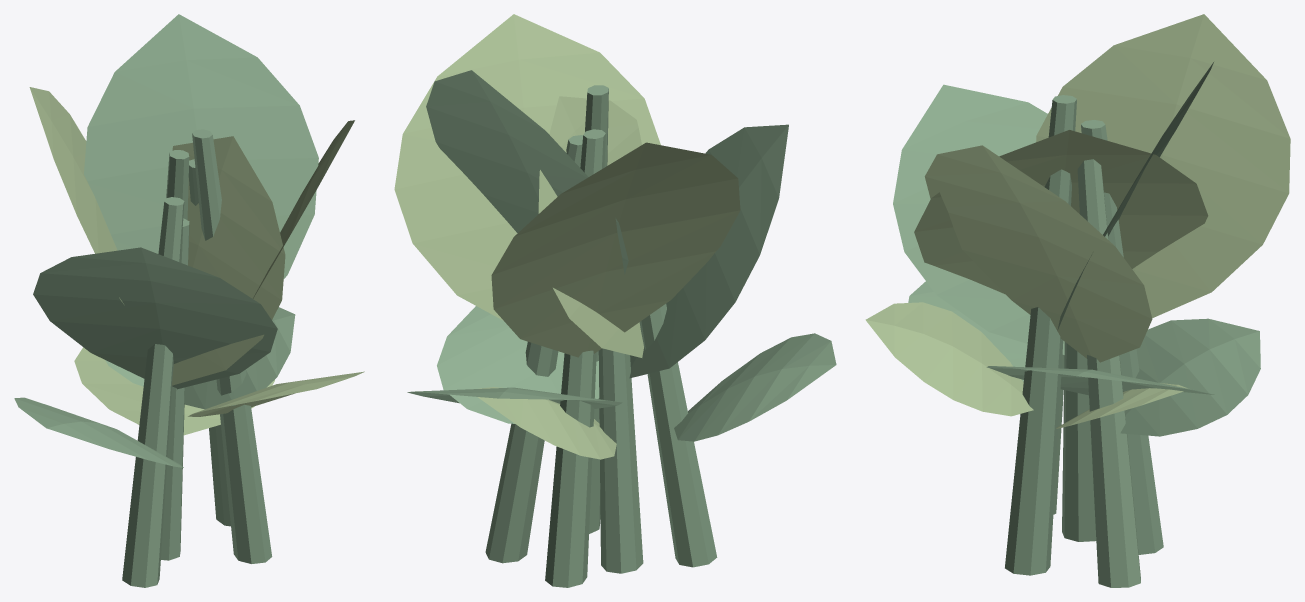
File: P12_art_repair_candidate.glb
3 renders of one model, left to right at view 1: azimuth 30°, elevation 25°; view 2: azimuth 150°, elevation 25°; view 3: azimuth 270°, elevation 25°, orthographic. The views are drawn at different scales.
Parts seen in each view (by area): view 1: P12_BroadLeaf_2, P12_BroadLeaf_4, P12_BroadLeaf_1, P12_Stem_1, P12_Stem_2, P12_BroadLeaf_3, P12_LowerLeaf_4, P12_Stem_4, P12_LowerLeaf_1, P12_LowerLeaf_3, P12_LowerLeaf_2, P12_Stem_5 (+2 smaller); view 2: P12_BroadLeaf_3, P12_BroadLeaf_5, P12_BroadLeaf_2, P12_BroadLeaf_4, P12_Stem_3, P12_LowerLeaf_1, P12_Stem_1, P12_Stem_4, P12_LowerLeaf_3, P12_Stem_5, P12_BroadLeaf_1, P12_LowerLeaf_4 (+2 smaller); view 3: P12_BroadLeaf_3, P12_BroadLeaf_5, P12_BroadLeaf_1, P12_BroadLeaf_4, P12_Stem_2, P12_LowerLeaf_5, P12_LowerLeaf_2, P12_Stem_5, P12_Stem_4, P12_Stem_3, P12_LowerLeaf_3, P12_LowerLeaf_1 (+2 smaller).
Part boxes in pixels (x1,y1,x2,y2): P12_BroadLeaf_2: [84, 14, 318, 278]; P12_BroadLeaf_4: [33, 247, 277, 389]; P12_BroadLeaf_1: [172, 136, 285, 385]; P12_Stem_1: [122, 197, 184, 587]; P12_Stem_2: [192, 129, 272, 563]; P12_BroadLeaf_3: [29, 87, 123, 303]; P12_LowerLeaf_4: [74, 347, 274, 435]; P12_Stem_4: [161, 218, 189, 560]; P12_LowerLeaf_1: [14, 397, 183, 467]; P12_LowerLeaf_3: [184, 307, 295, 409]; P12_LowerLeaf_2: [188, 371, 364, 416]; P12_Stem_5: [188, 159, 230, 526]; P12_BroadLeaf_3: [491, 142, 740, 357]; P12_BroadLeaf_5: [394, 14, 660, 320]; P12_BroadLeaf_2: [426, 70, 628, 274]; P12_BroadLeaf_4: [629, 124, 788, 378]; P12_Stem_3: [545, 129, 605, 587]; P12_LowerLeaf_1: [674, 333, 836, 441]; P12_Stem_1: [639, 304, 717, 567]; P12_Stem_4: [598, 348, 643, 573]; P12_LowerLeaf_3: [437, 306, 599, 423]; P12_Stem_5: [485, 135, 582, 563]; P12_BroadLeaf_1: [538, 96, 643, 357]; P12_LowerLeaf_4: [477, 387, 616, 459]; P12_BroadLeaf_3: [1036, 14, 1290, 317]; P12_BroadLeaf_5: [924, 145, 1152, 362]; P12_BroadLeaf_1: [914, 130, 1208, 294]; P12_BroadLeaf_4: [893, 84, 1064, 354]; P12_Stem_2: [1005, 95, 1076, 575]; P12_LowerLeaf_5: [1120, 318, 1260, 436]; P12_LowerLeaf_2: [865, 302, 1033, 416]; P12_Stem_5: [1077, 159, 1140, 587]; P12_Stem_4: [1062, 342, 1096, 541]; P12_Stem_3: [1081, 120, 1163, 554]; P12_LowerLeaf_3: [986, 366, 1214, 395]; P12_LowerLeaf_1: [908, 281, 1027, 381].
Size of the model in its own units: 3 by 4 by 3.
